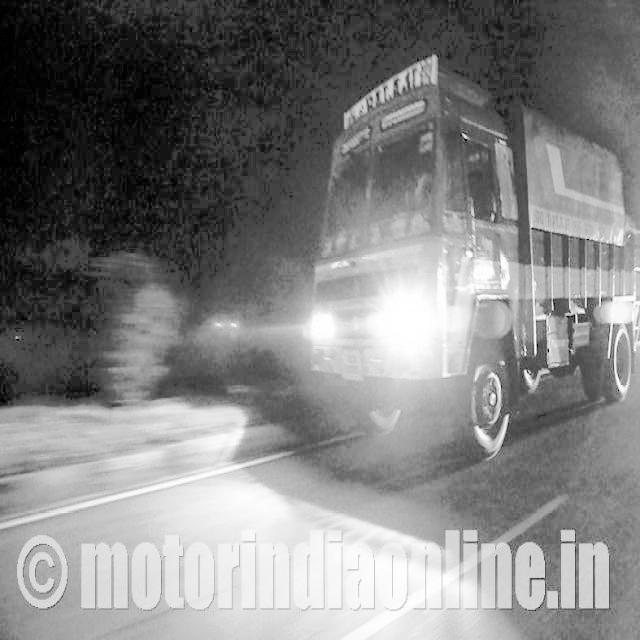Truck: (296, 53, 638, 466)
